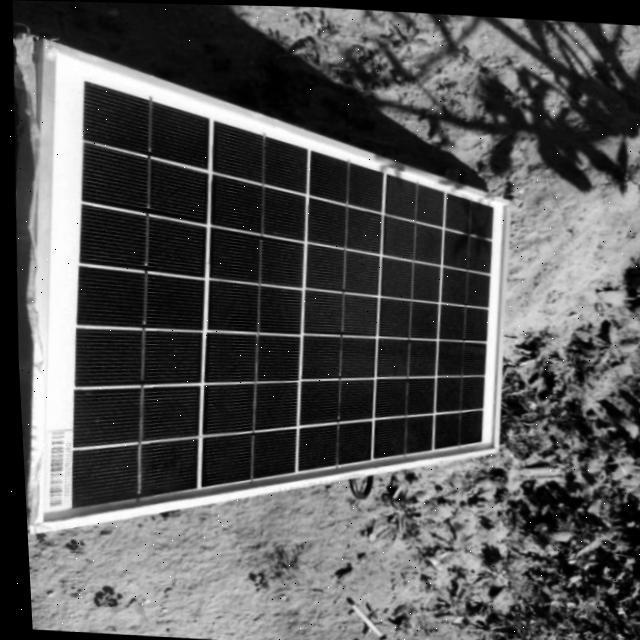Normal Solar Panel: (4, 38, 524, 554)
